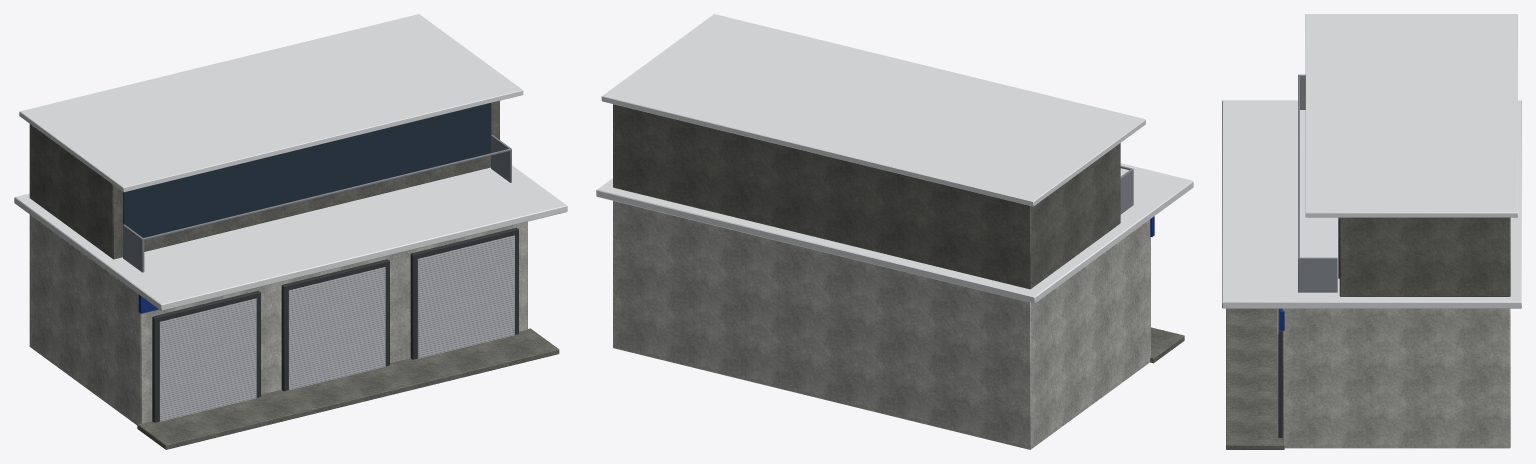
The model's file is race-pit-garage.glb.
3 views of the same model, side by side, from view 1: azimuth 30°, elevation 25°; view 2: azimuth 150°, elevation 25°; view 3: azimuth 270°, elevation 25° (orthographic). The views are drawn at different scales.
Visible parts, largest first — view 1: Race_Pit_Garage; view 2: Race_Pit_Garage; view 3: Race_Pit_Garage.
Part boxes in pixels (box(x1,y1,x2,y2)): Race_Pit_Garage: box(14, 14, 567, 449); Race_Pit_Garage: box(596, 14, 1193, 449); Race_Pit_Garage: box(1222, 14, 1521, 449).
Bounding box in the file's own units: 12.6 × 6.95 × 7.9.
Materials: 8 (3 with a texture image).
